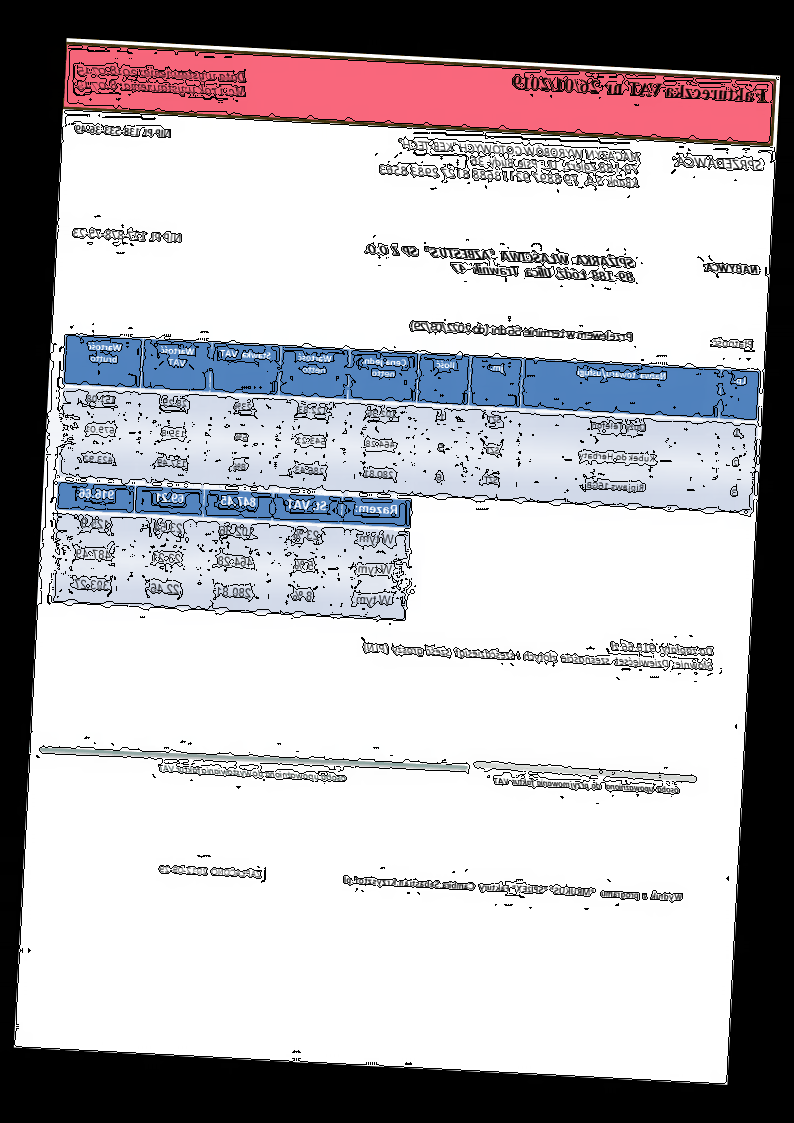Table: (56, 334, 762, 514), (51, 480, 412, 622)
TextBox: (361, 627, 716, 674), (377, 136, 643, 192), (361, 238, 638, 285), (341, 871, 685, 906), (510, 70, 769, 106), (75, 60, 250, 102), (410, 318, 635, 345), (156, 760, 351, 785), (491, 773, 682, 798), (73, 223, 186, 246), (158, 861, 264, 881), (73, 121, 175, 141), (673, 153, 766, 174), (703, 259, 761, 277), (707, 334, 756, 352)
